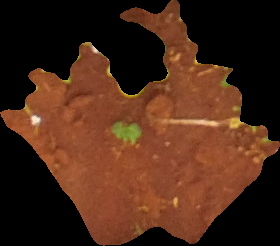soil: (1, 1, 280, 245)
